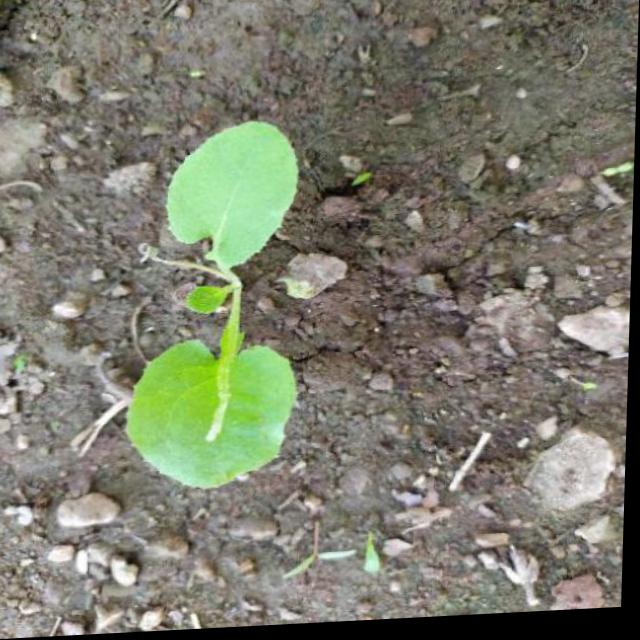weed: (65, 117, 428, 487)
